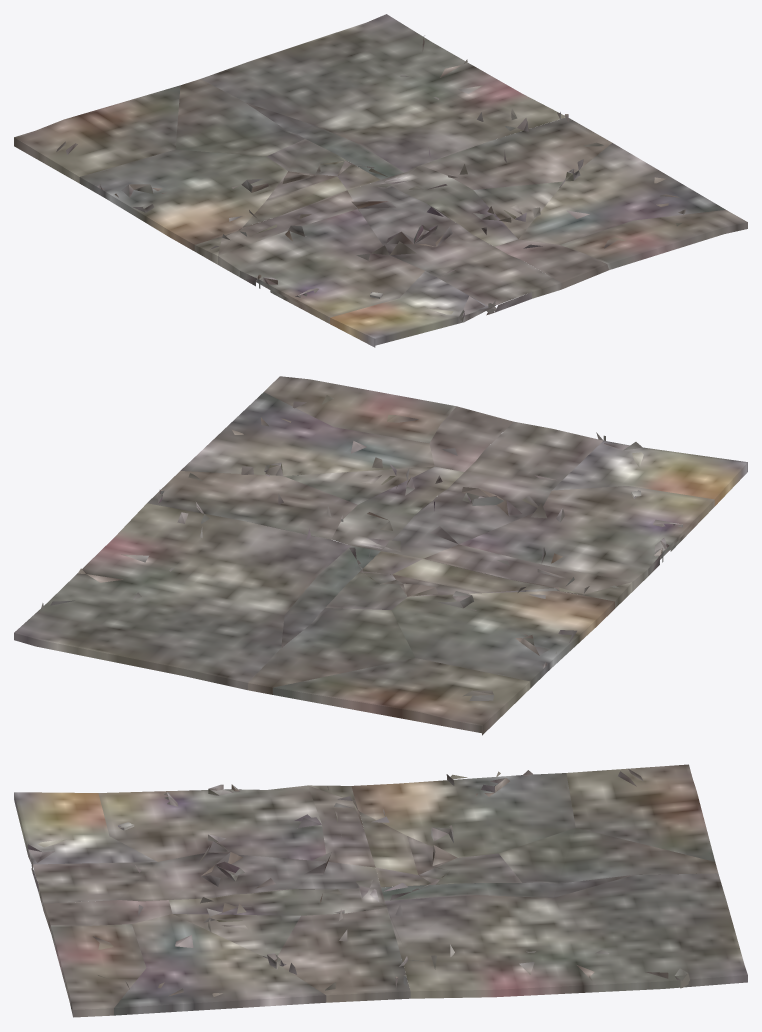
3 views of the same model, one above another, from view 1: azimuth 30°, elevation 25°; view 2: azimuth 150°, elevation 25°; view 3: azimuth 270°, elevation 25° (orthographic). The views are drawn at different scales.
Parts seen in each view (by area): view 1: Mesh_0; view 2: Mesh_0; view 3: Mesh_0.
Boxes of the visible parts, <box> form: Mesh_0: <box>14,14,747,347</box>; Mesh_0: <box>14,376,747,735</box>; Mesh_0: <box>14,764,747,1017</box>.
Bounding box in the file's own units: 2130 × 129 × 2637.
1 material, 1 textured.
